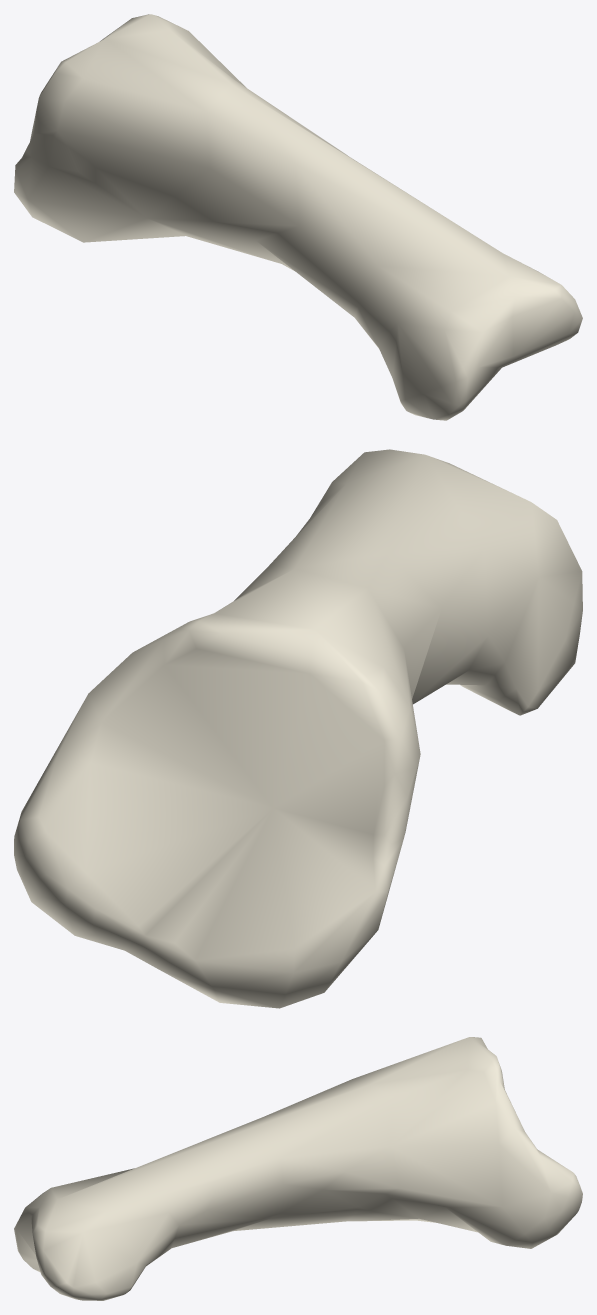
The picture shows the model from 3 angles, top to bottom: view 1: azimuth 30°, elevation 25°; view 2: azimuth 150°, elevation 25°; view 3: azimuth 270°, elevation 25°; orthographic projection. The views are drawn at different scales.
Visible parts, largest first — view 1: ZA_896315e816ea4d8f; view 2: ZA_896315e816ea4d8f; view 3: ZA_896315e816ea4d8f.
Boxes of the visible parts, box(x1,y1,x2,y2) form: ZA_896315e816ea4d8f: box(14, 14, 582, 420); ZA_896315e816ea4d8f: box(14, 449, 582, 1008); ZA_896315e816ea4d8f: box(14, 1037, 582, 1300).
Bounding box in the file's own units: 0.0164 × 0.012 × 0.0302.
